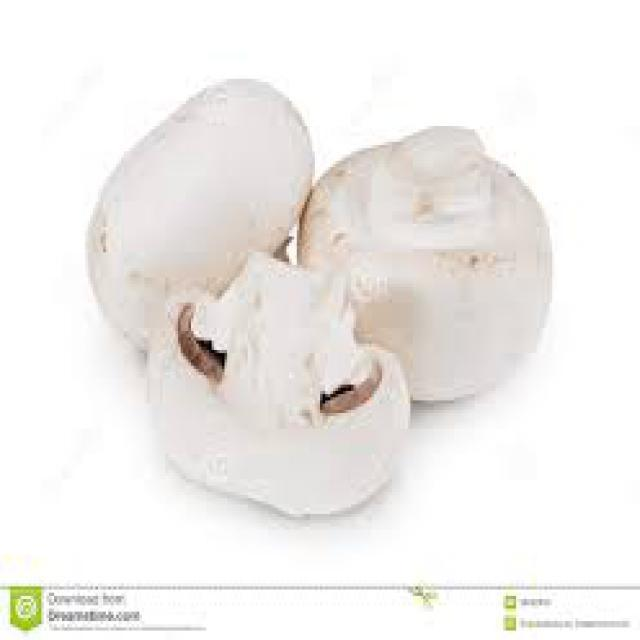Agaricus bisporus: (144, 251, 409, 529), (300, 127, 556, 400), (89, 83, 317, 344)
